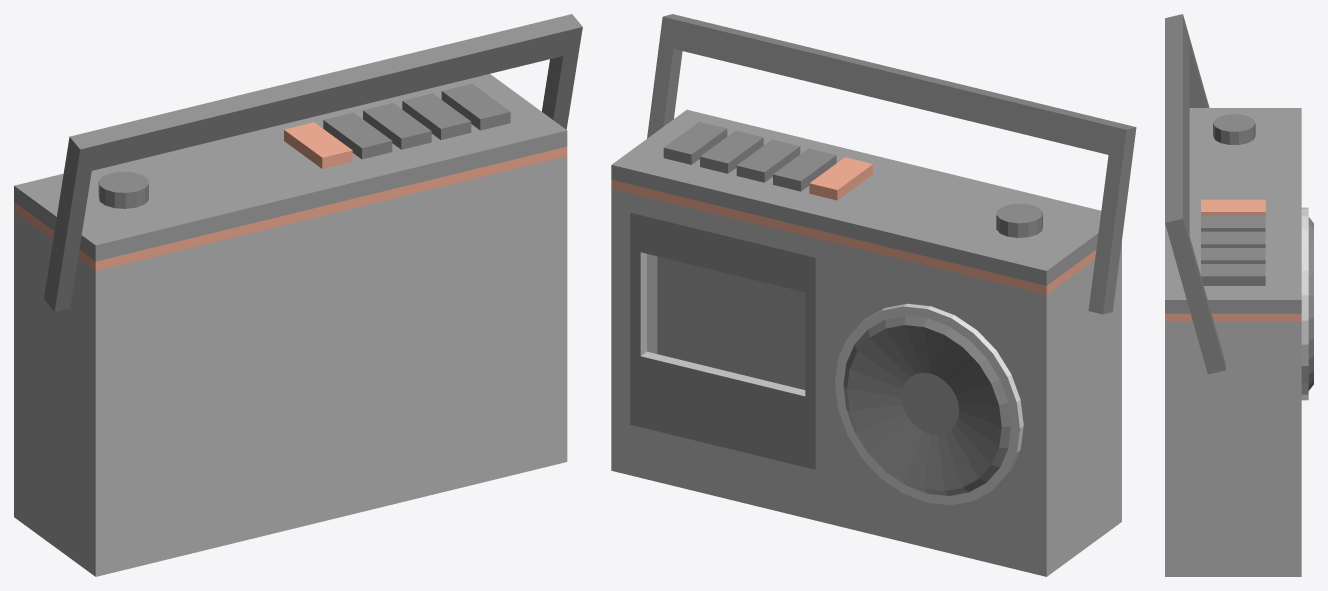
The model's file is Radio.fbx.
The picture shows the model from 3 angles, left to right: view 1: azimuth 30°, elevation 25°; view 2: azimuth 150°, elevation 25°; view 3: azimuth 270°, elevation 25°; orthographic projection. The views are drawn at different scales.
Visible parts, largest first — view 1: Radio, Radio Handle; view 2: Radio, Radio Flap, Radio Handle; view 3: Radio, Radio Handle.
Boxes of the visible parts, x1,y1,x2,y2 form: Radio: (14, 74, 567, 576); Radio Handle: (44, 14, 582, 311); Radio: (611, 109, 1121, 576); Radio Flap: (630, 212, 815, 469); Radio Handle: (647, 14, 1136, 314); Radio: (1165, 108, 1313, 576); Radio Handle: (1165, 14, 1225, 374).
Bounding box in the file's own units: 0.2707 × 0.2246 × 0.0832.
